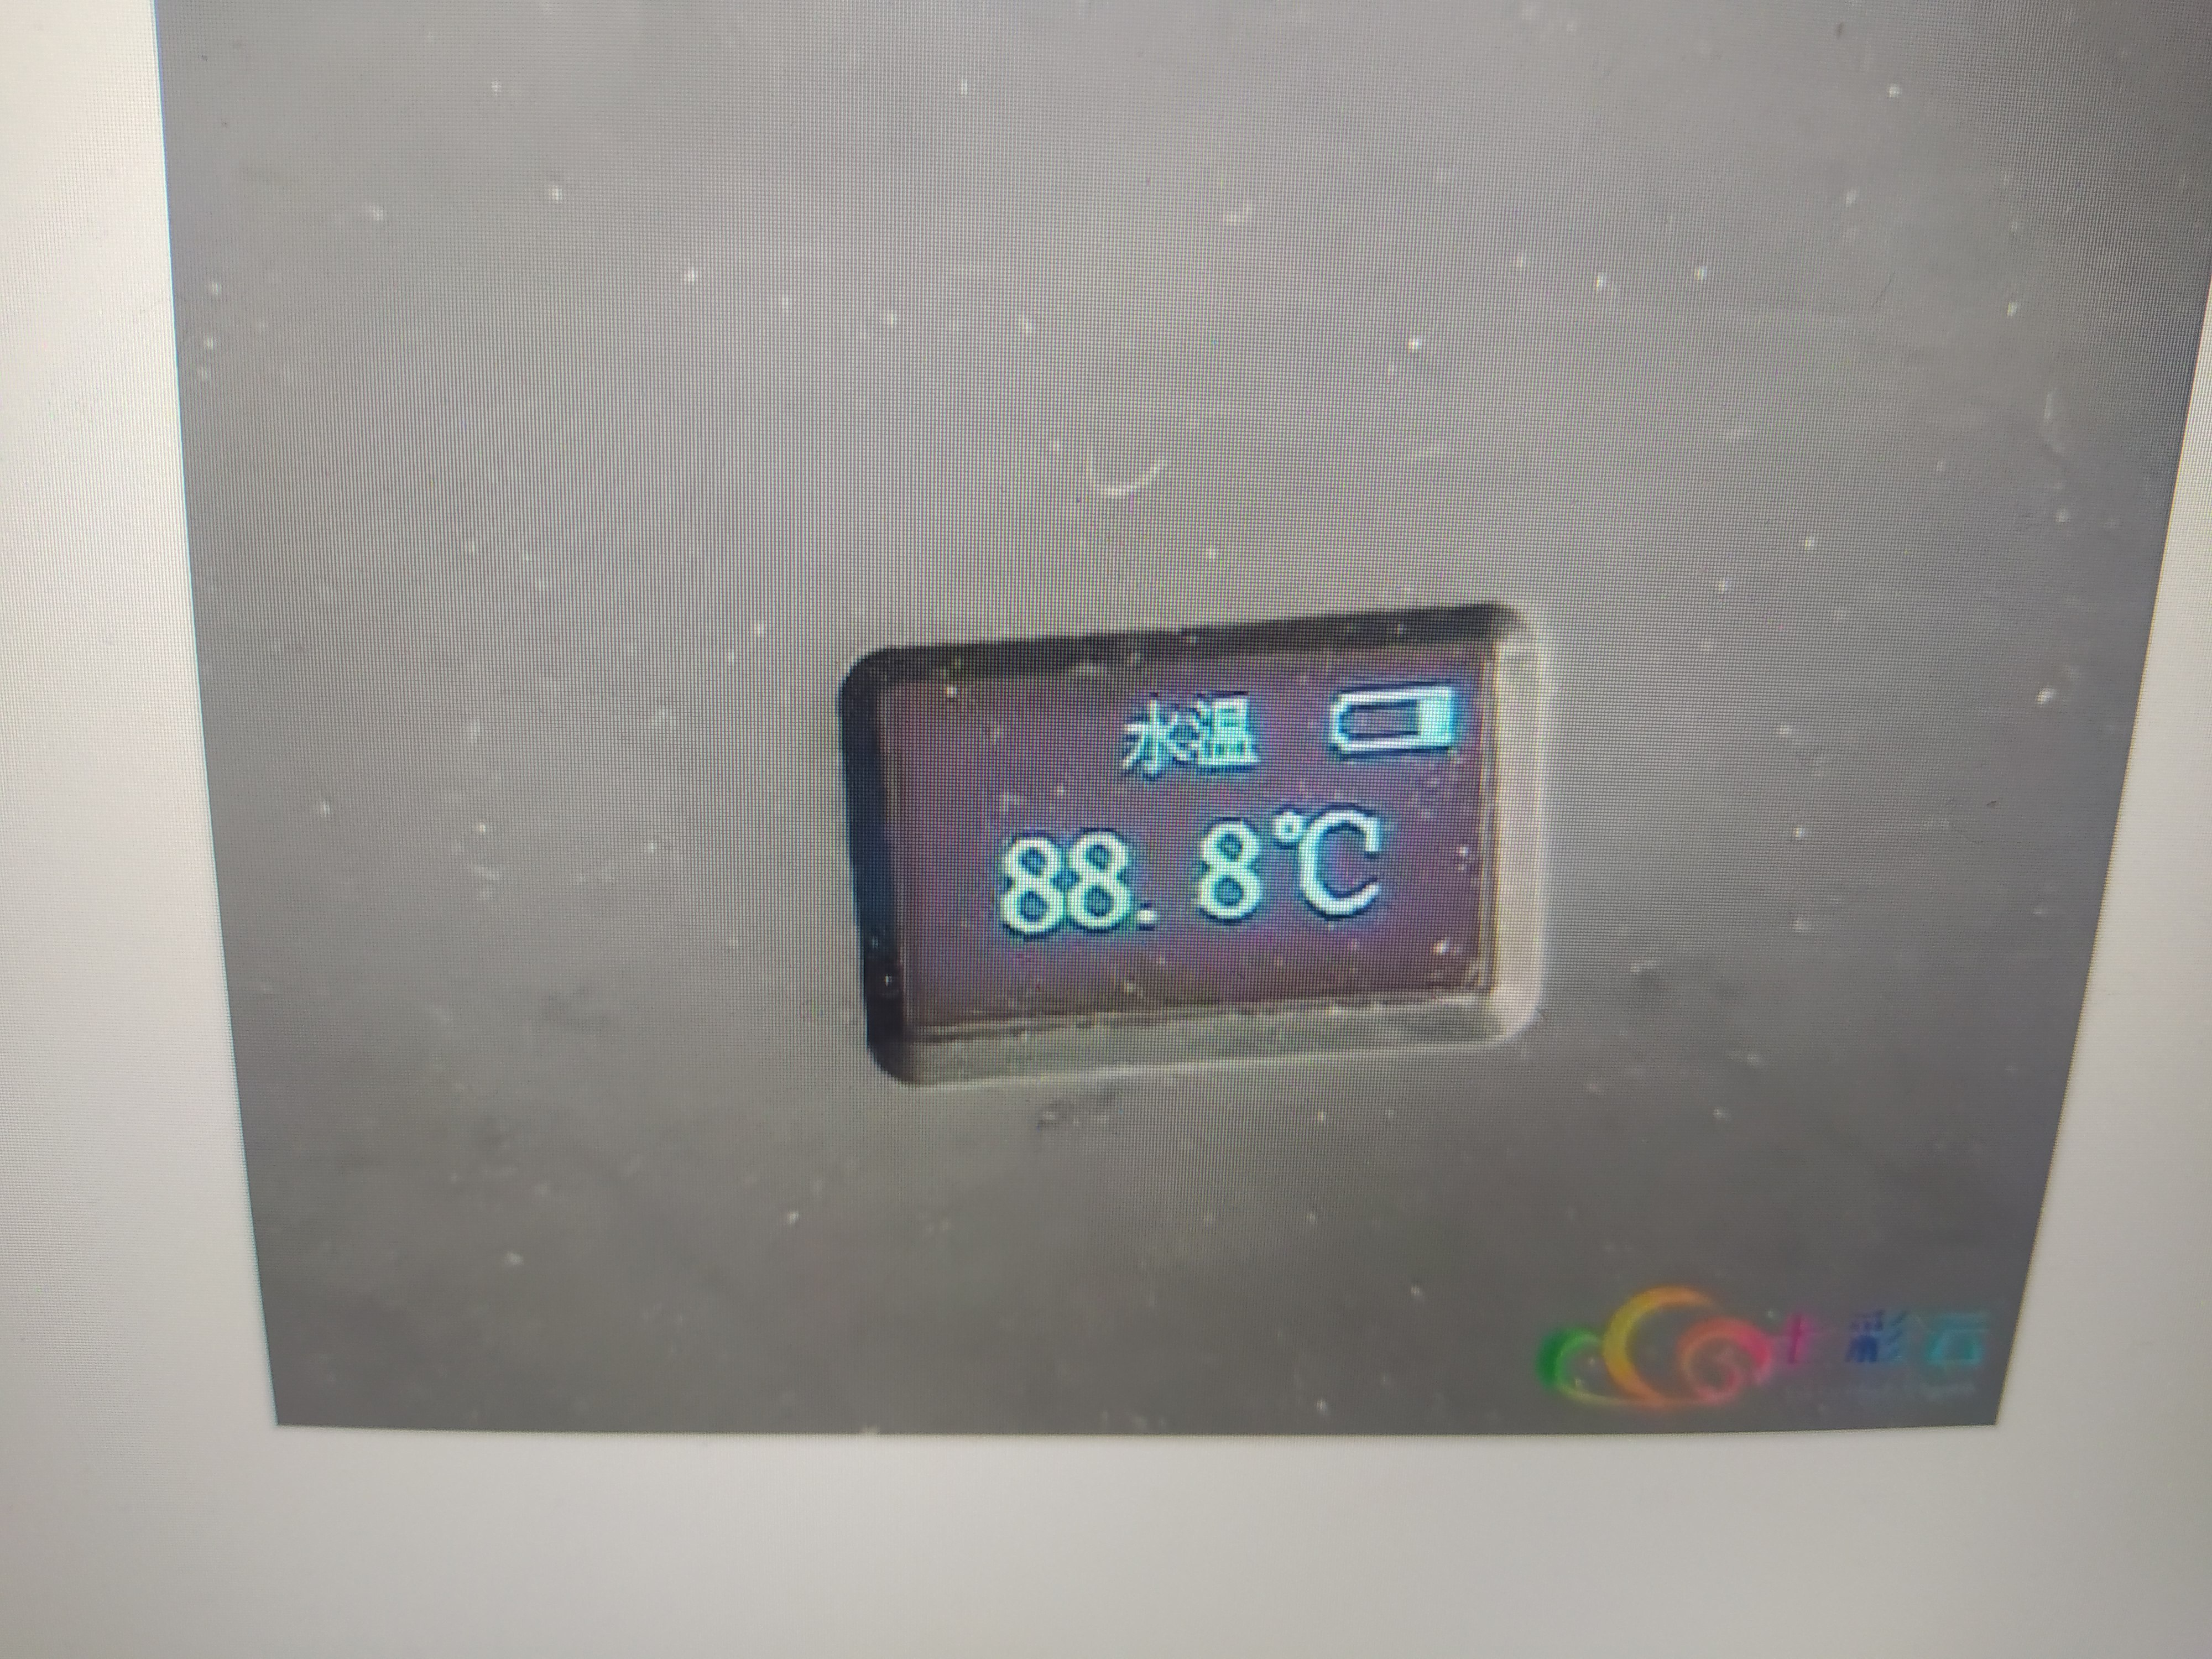.: (1139, 824, 1184, 939)
8: (1191, 805, 1258, 931), (995, 830, 1068, 943), (1061, 823, 1127, 943)
